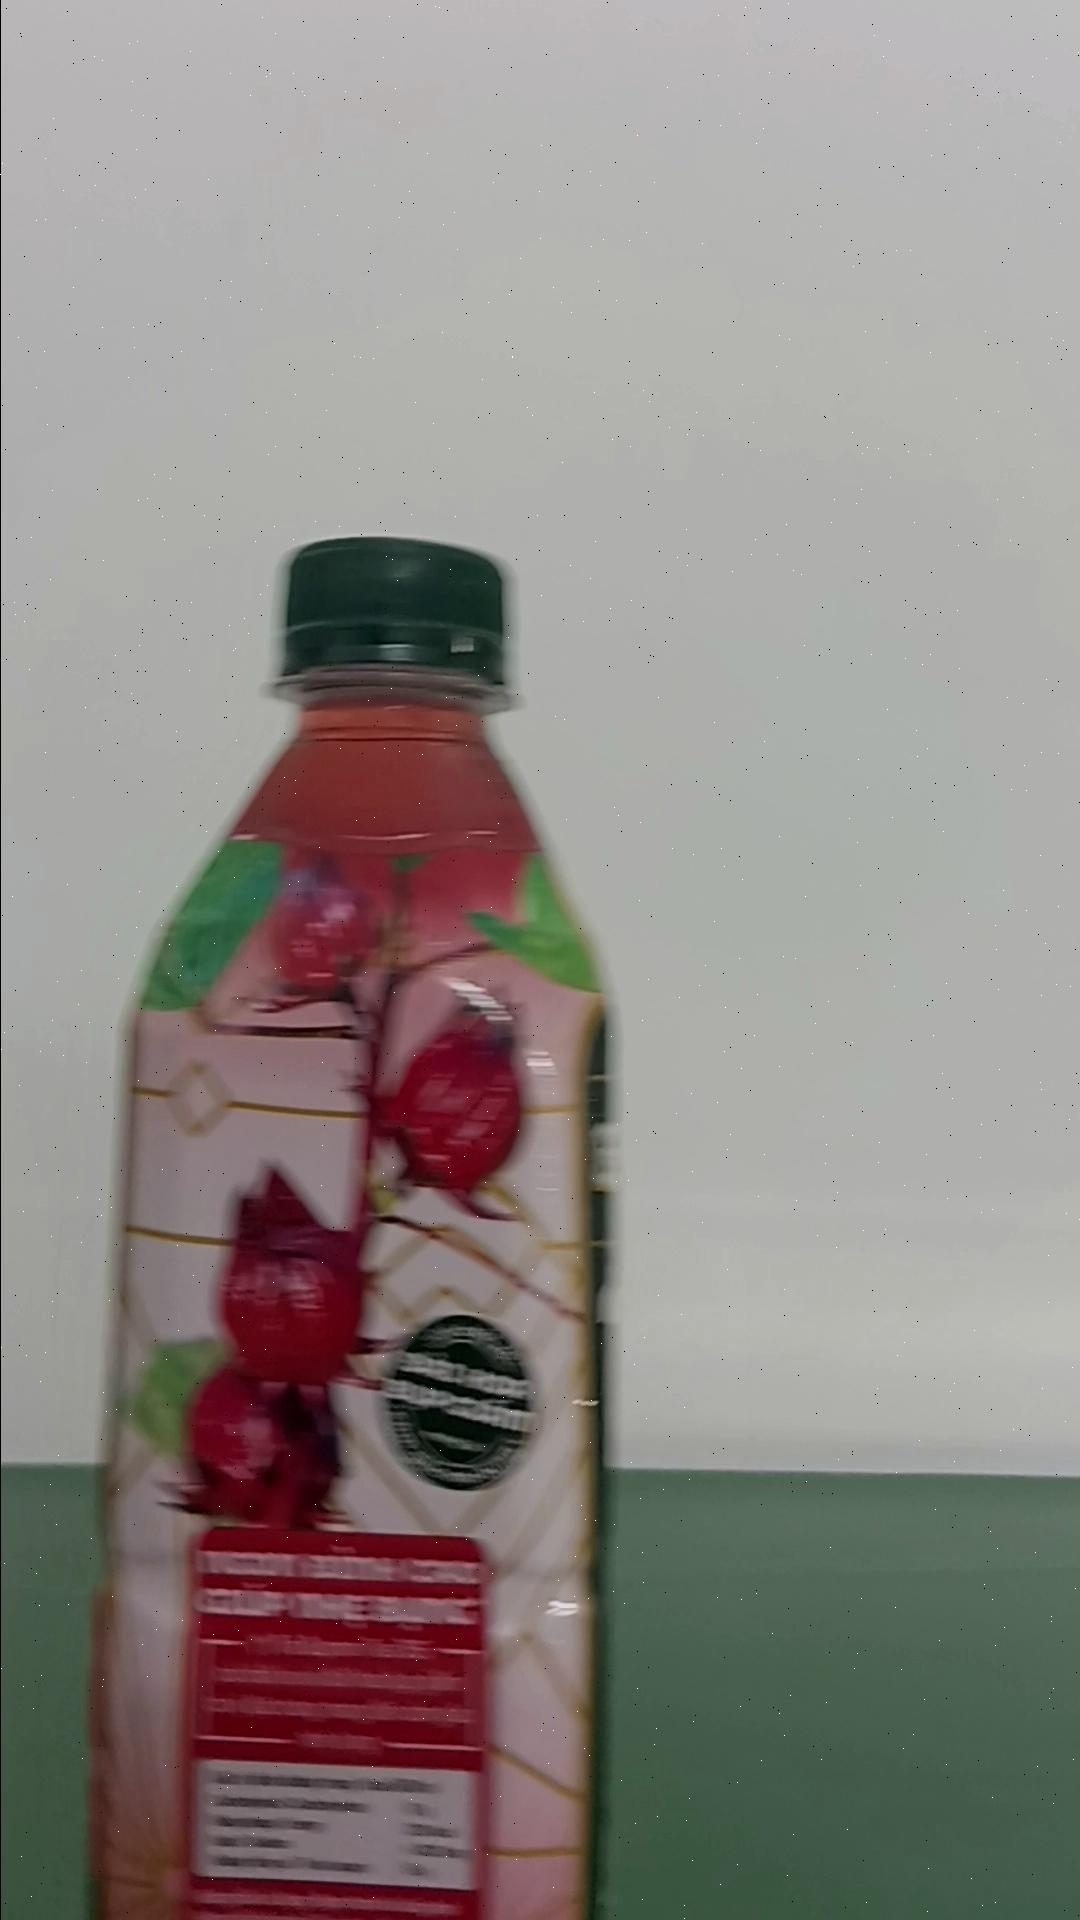khong loi: (87, 531, 616, 1915)
